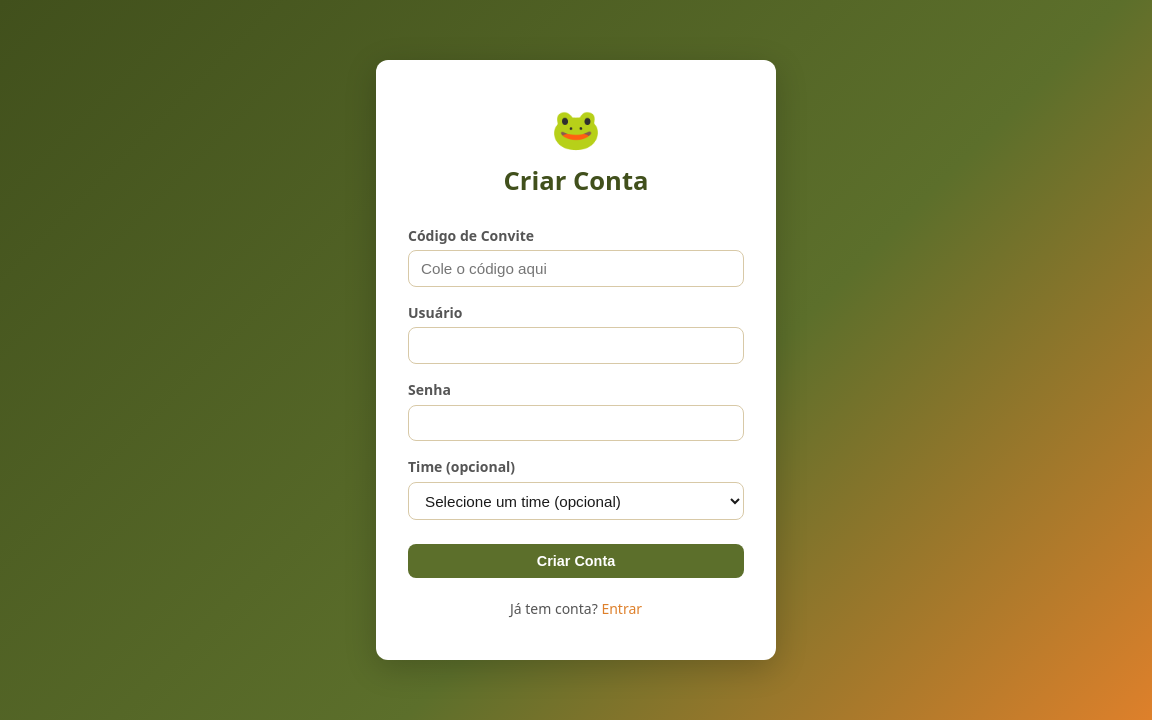
Test case: Autenticação › Registro › exibe erro com username já em uso
The width and height of the screenshot is (1152, 720).
Type "sometoken" into the field with id "inviteToken" at (576, 269), box [408,250,744,287]
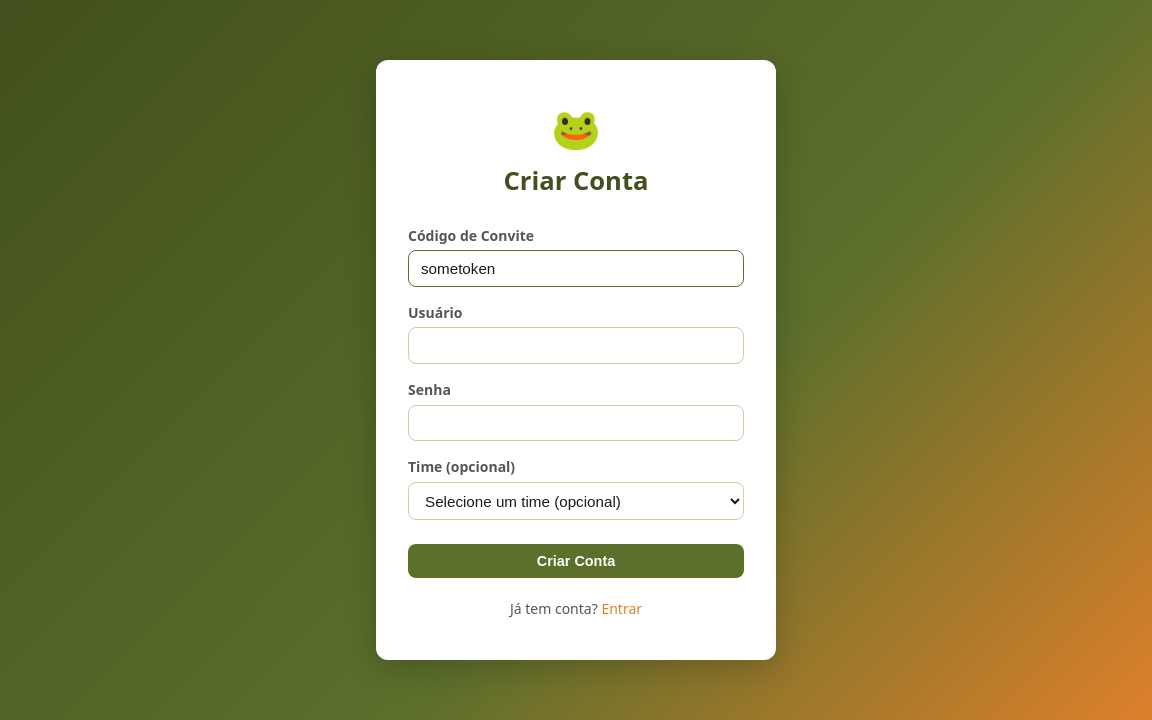
Type "existinguser" into the field with id "username" at (576, 346), box [408,327,744,364]
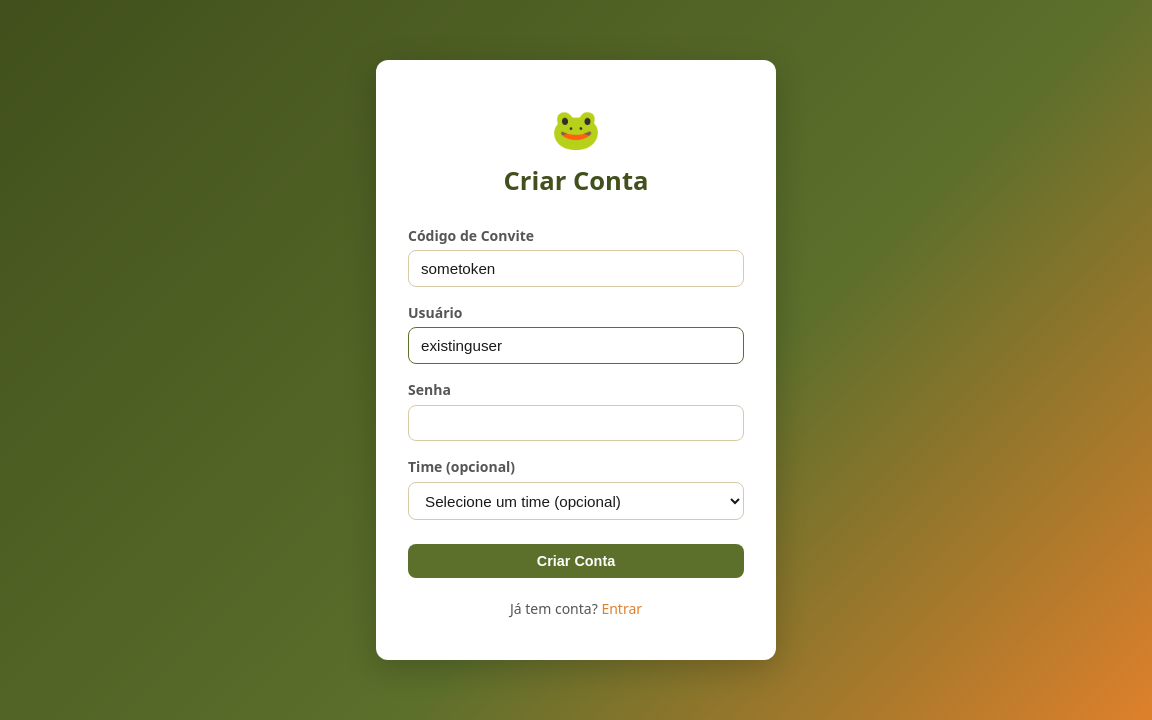
Type "password123" into the password field labelled "Senha" at (576, 424), box [408,405,744,442]
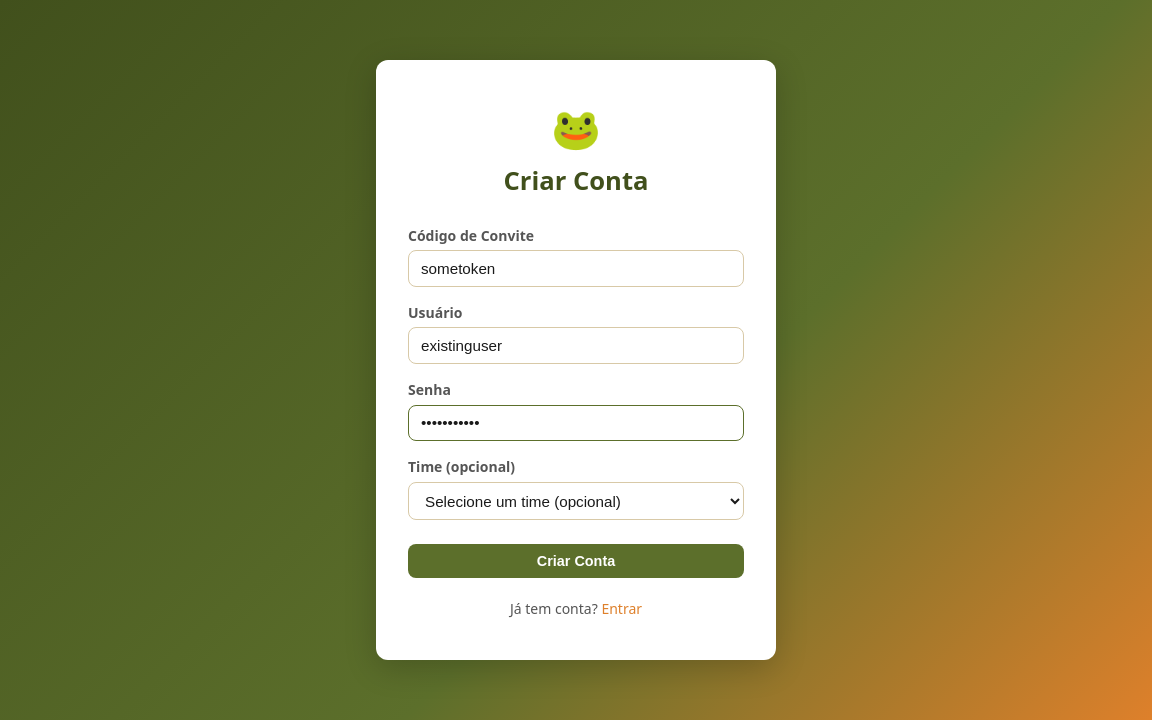
Click the submit button at (576, 561), box [408,544,744,578]
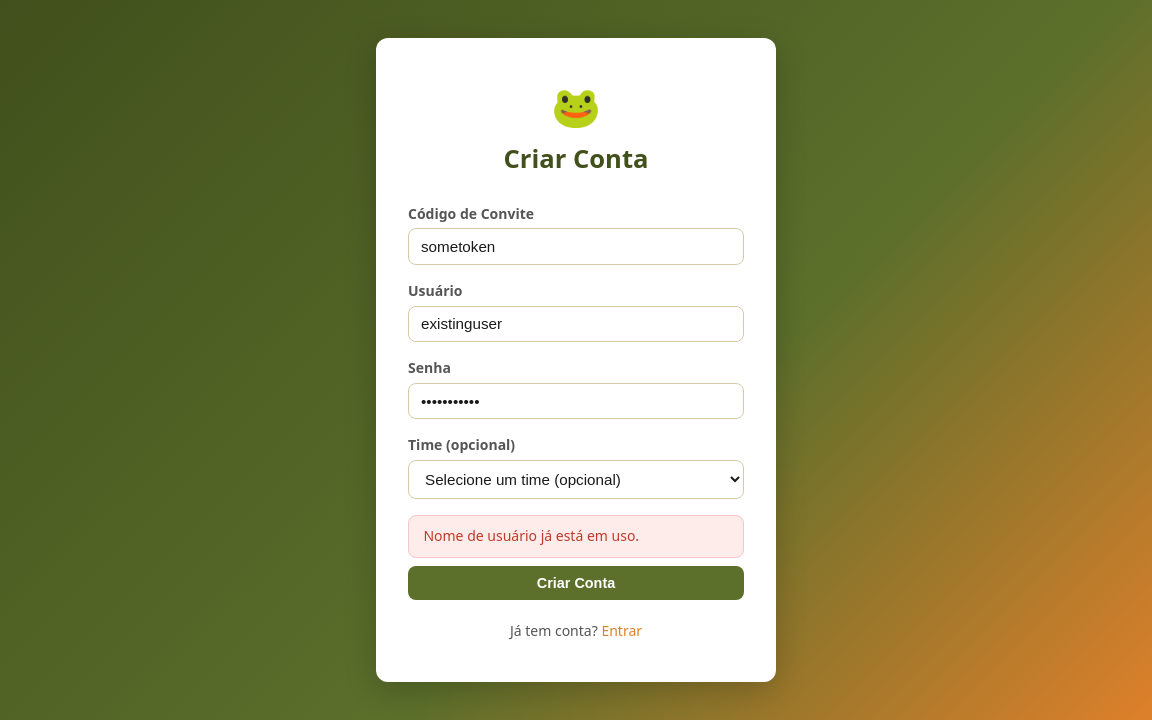
Result: the message "Nome de usuário já está em uso." is shown at [408,515,744,558]
